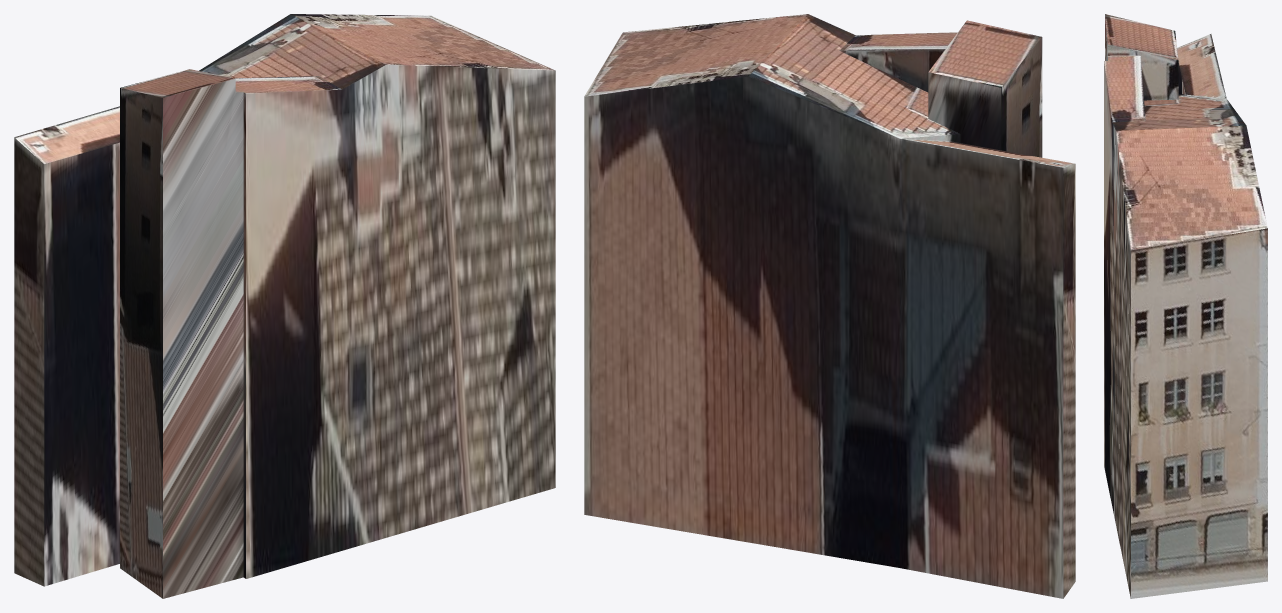
3 views of the same model, side by side, from view 1: azimuth 30°, elevation 25°; view 2: azimuth 150°, elevation 25°; view 3: azimuth 270°, elevation 25° (orthographic). The views are drawn at different scales.
Parts seen in each view (by area): view 1: Z_UP; view 2: Z_UP; view 3: Z_UP.
Part boxes in pixels (<box>): Z_UP: <box>14,14,555,598</box>; Z_UP: <box>584,14,1075,598</box>; Z_UP: <box>1104,14,1267,598</box>.
Size of the model in its own units: 23.2 by 22.5 by 7.98.
2 materials, 1 textured.
